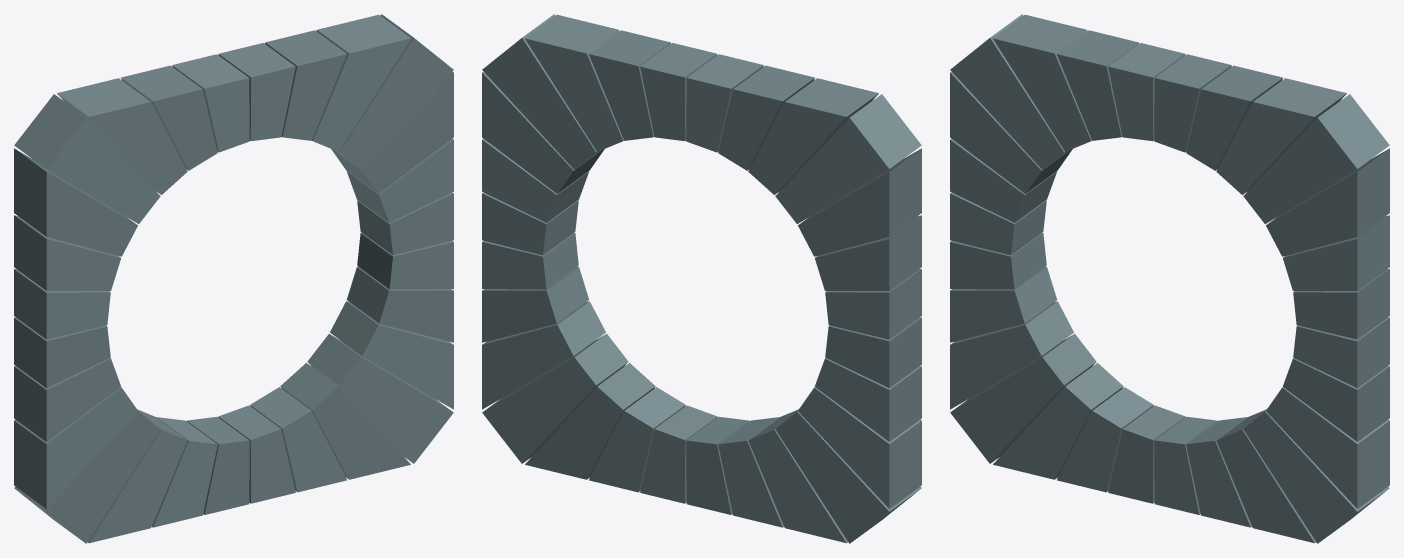
Rendered from ring.glb.
The picture shows the model from 3 angles, left to right: view 1: azimuth 30°, elevation 25°; view 2: azimuth 150°, elevation 25°; view 3: azimuth 330°, elevation 25°; orthographic projection.
Visible parts, largest first — view 1: ring; view 2: ring; view 3: ring.
Boxes of the visible parts, x1,y1,x2,y2 form: ring: (14,14,453,543); ring: (482,14,921,543); ring: (950,14,1389,543).
Size of the model in its own units: 8.7 by 8.7 by 1.2.
